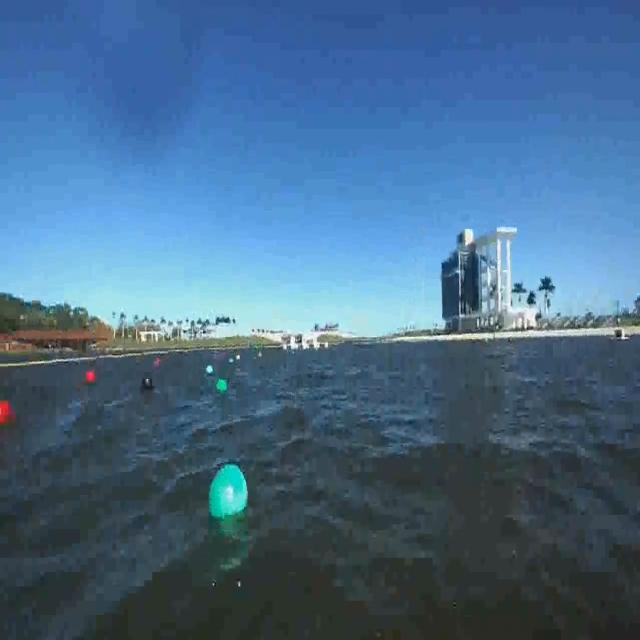black-buoy: (141, 376, 153, 393)
green-buoy: (209, 463, 250, 521), (216, 378, 226, 394), (205, 360, 214, 375)
red-buoy: (0, 403, 14, 428), (88, 371, 97, 383)
